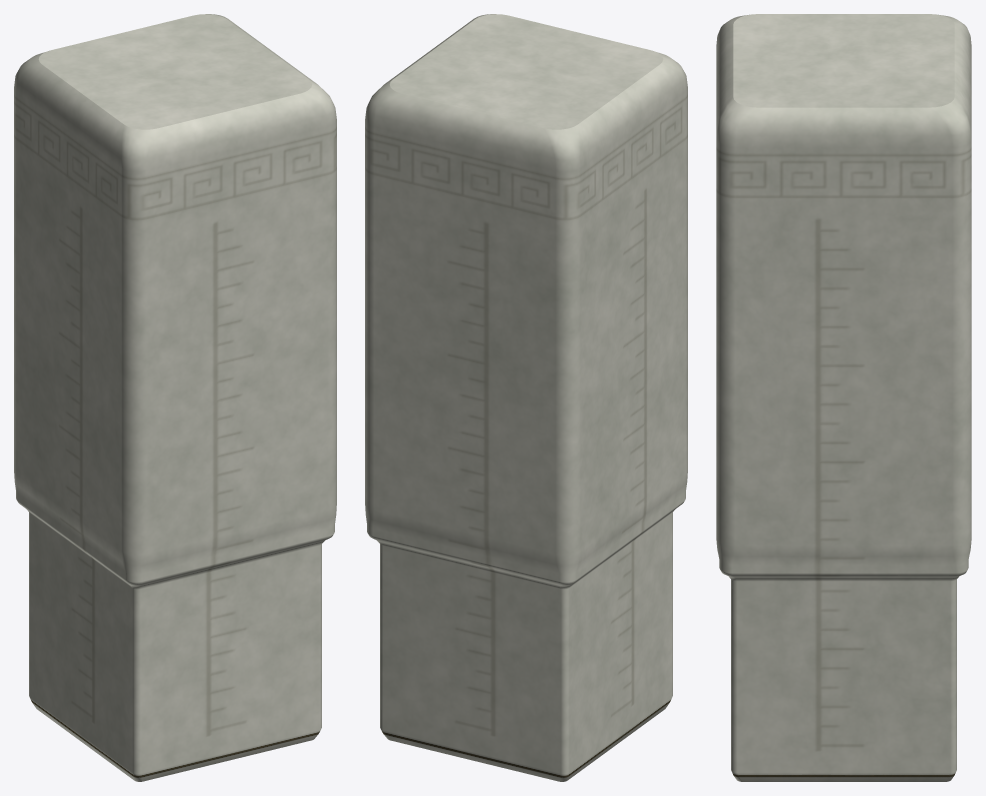
Rendered from MasterTenon_R02.glb.
3 views of the same model, side by side, from view 1: azimuth 30°, elevation 25°; view 2: azimuth 150°, elevation 25°; view 3: azimuth 270°, elevation 25° (orthographic). The views are drawn at different scales.
Visible parts, largest first — view 1: MasterTenon_LOD0; view 2: MasterTenon_LOD0; view 3: MasterTenon_LOD0.
Part boxes in pixels (x1=…): MasterTenon_LOD0: x1=14, y1=14, x2=336, y2=781; MasterTenon_LOD0: x1=365, y1=14, x2=687, y2=781; MasterTenon_LOD0: x1=716, y1=14, x2=971, y2=781.
Size of the model in its own units: 0.12 by 0.35 by 0.12.
Materials: 1 (1 with a texture image).
